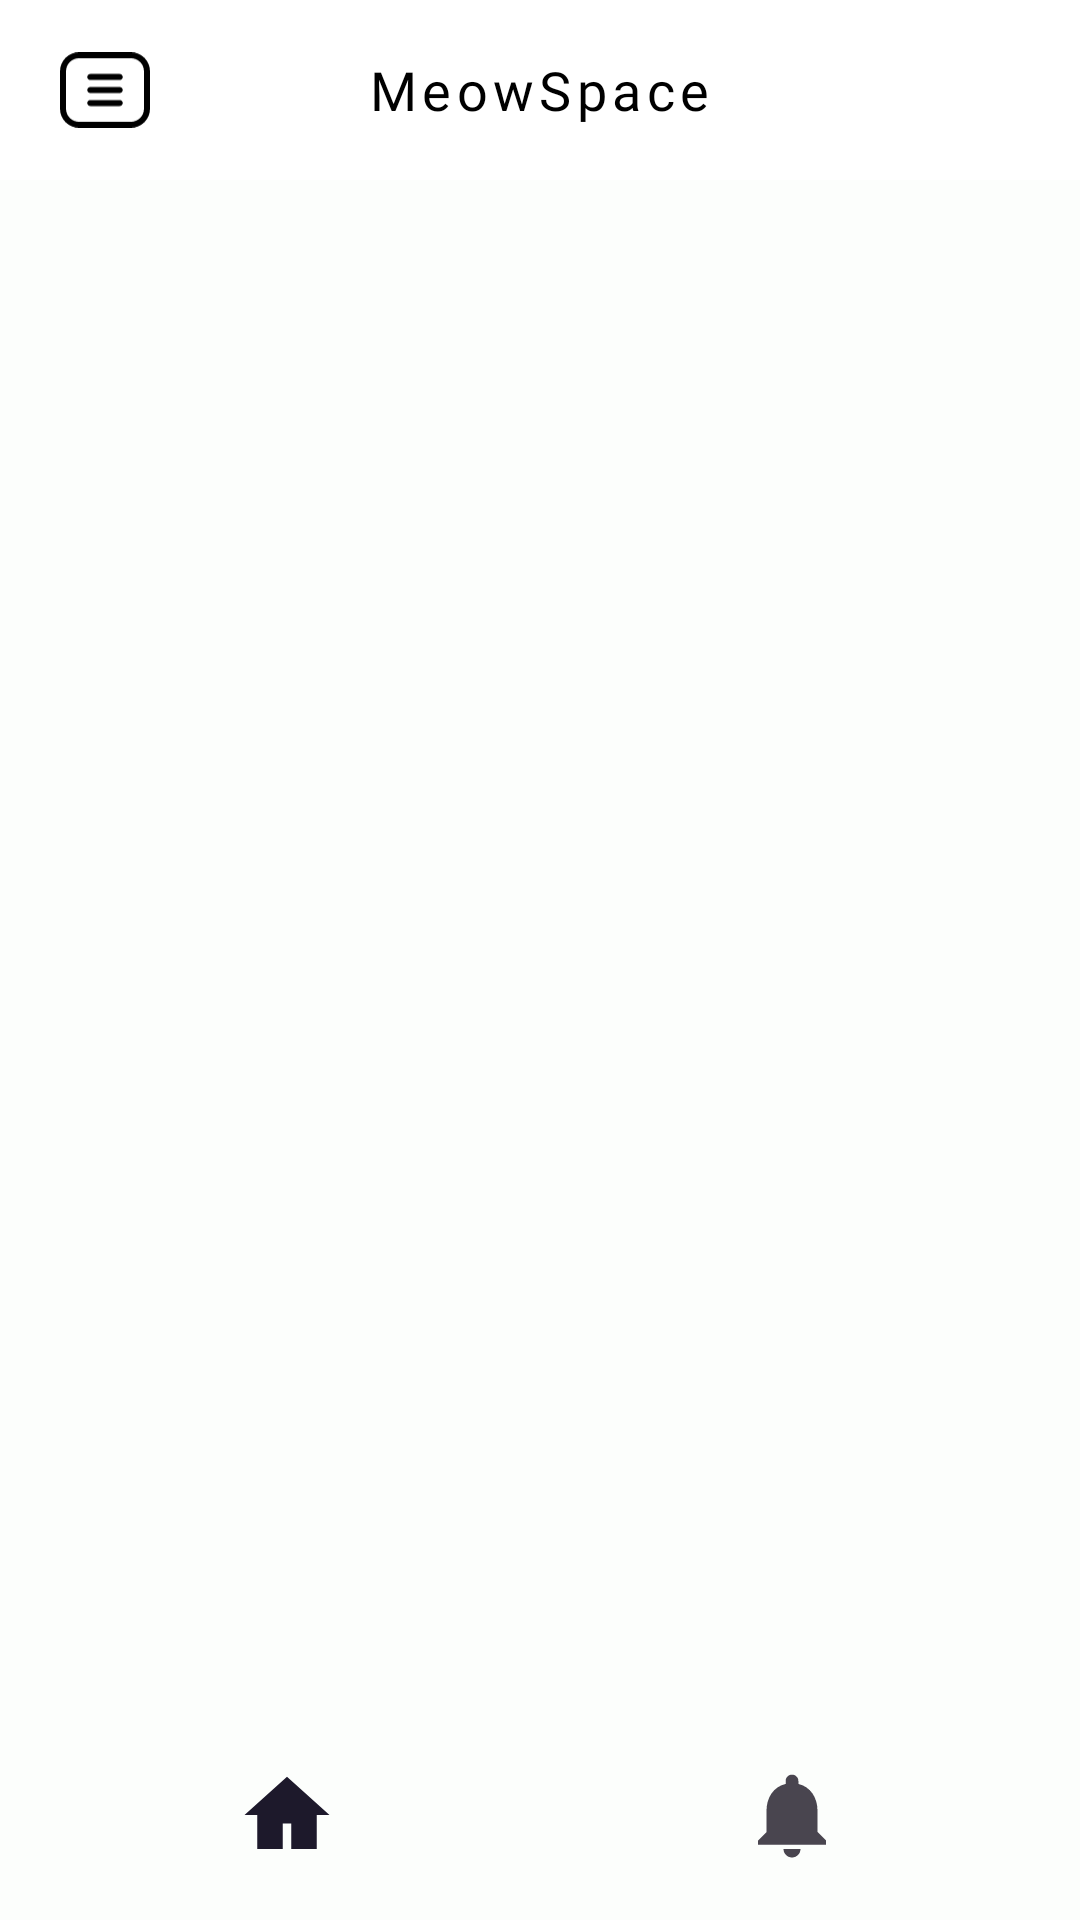

Where to tap for icons on this 1080×1920 app screen, as point (x, y):
menu: point (105, 90)
